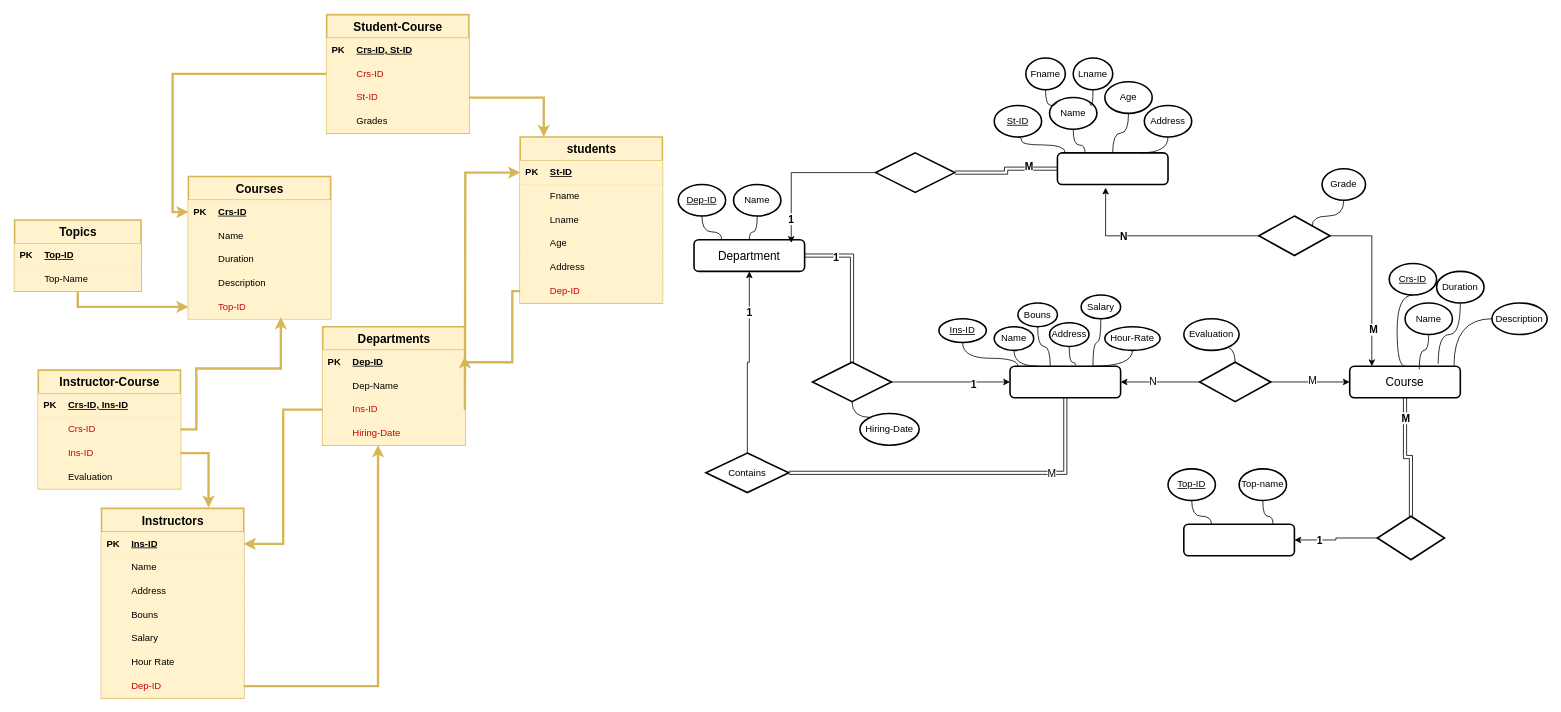
The diagram is 1561 pixels wide and 712 high, and some of its shapes have lost their labels. The shapes that lost their labels are listed below. From the top down, each one's centre as x and y in pixels, then its label:
pixel 915 172: Belongs
pixel 1112 168: Student
pixel 1294 235: Takes
pixel 851 381: Manage
pixel 1065 381: Instructor
pixel 1234 381: Tech
pixel 1239 539: Topic
pixel 1410 537: Has
